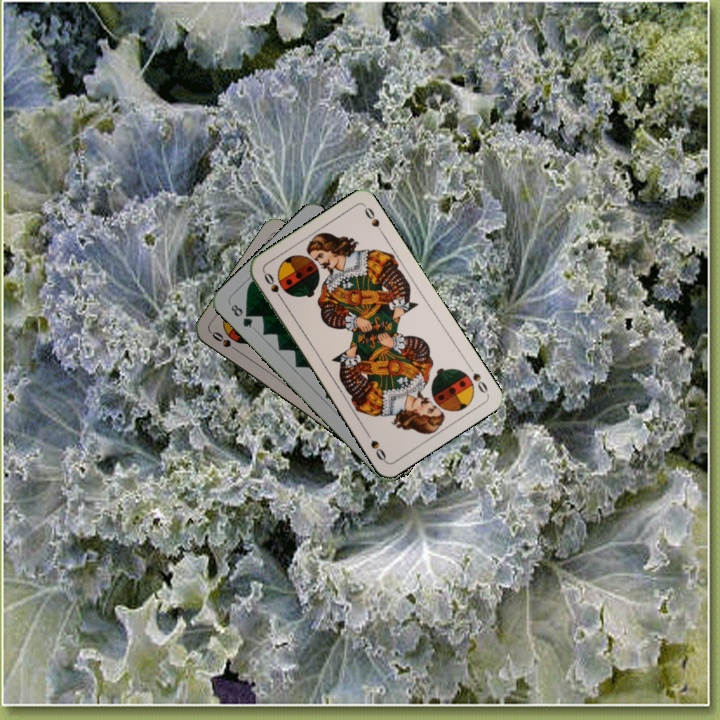G8: (227, 300, 255, 331)
SO: (208, 327, 243, 356), (260, 268, 287, 305), (463, 360, 490, 396)
